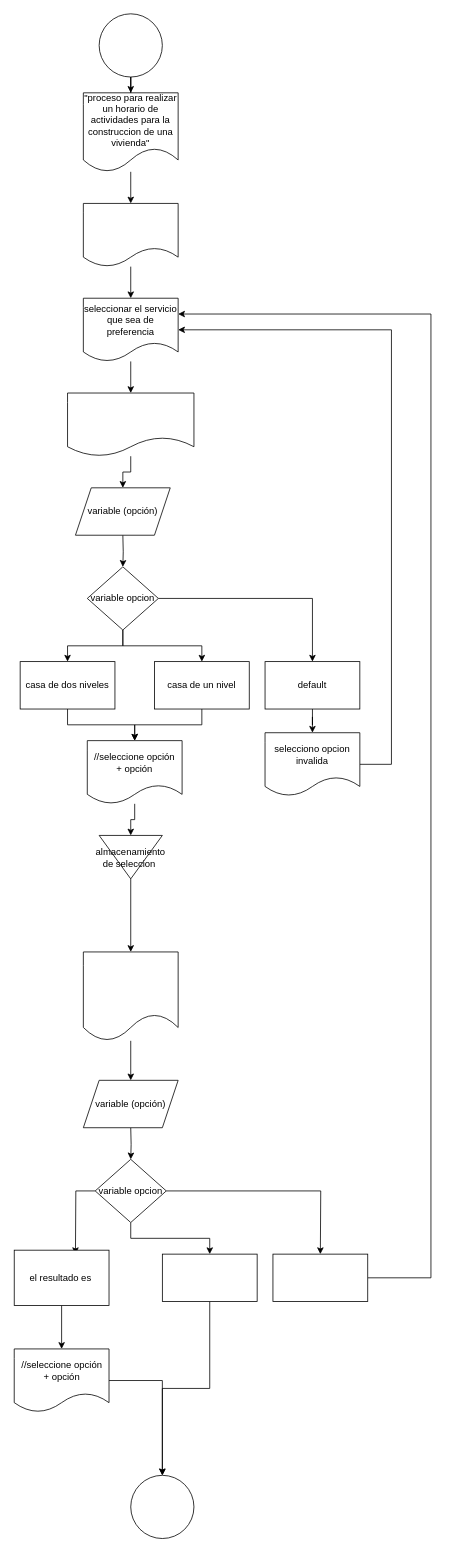
This 451x1552 diagram has some shape labels left out. Each missing label, with the centre of its shape:
1.el resultado es el siguiente " " 2. regresar a menu principal 3. salir: point 130,996
este programa crea un horario para una construccion de una vivienda: point 130,235
fin: point 162,1507
inicio: point 130,45
menu de opciones 1. casa de un nivel 2. casa de dos niveles: point 130,424
regresar al menu: point 320,1277
salir: point 209,1277
